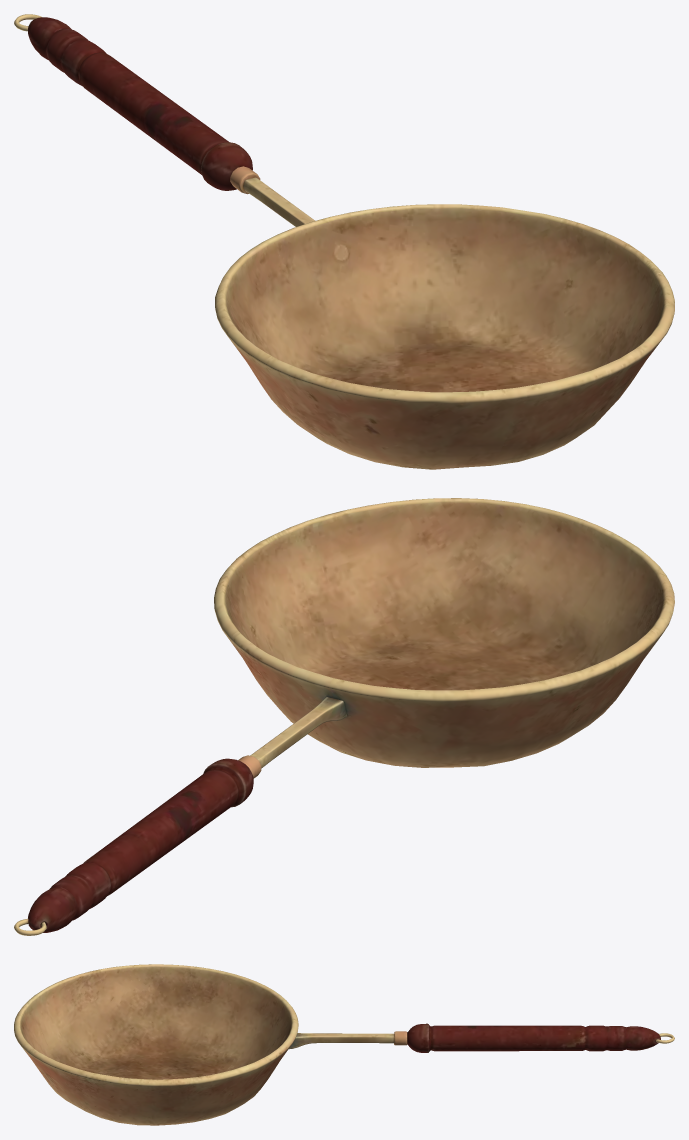
The model's file is brass_pan_01.e58cd481.glb.
The picture shows the model from 3 angles, top to bottom: view 1: azimuth 30°, elevation 25°; view 2: azimuth 150°, elevation 25°; view 3: azimuth 270°, elevation 25°; orthographic projection. The views are drawn at different scales.
Visible parts, largest first — view 1: brass_pan_01; view 2: brass_pan_01; view 3: brass_pan_01.
Boxes of the visible parts, x1=… form: brass_pan_01: x1=14, y1=14, x2=674, y2=469; brass_pan_01: x1=14, y1=498, x2=674, y2=935; brass_pan_01: x1=14, y1=964, x2=674, y2=1125.
Bounding box in the file's own units: 0.3062 × 0.0841 × 0.72.
1 material, 1 textured.
